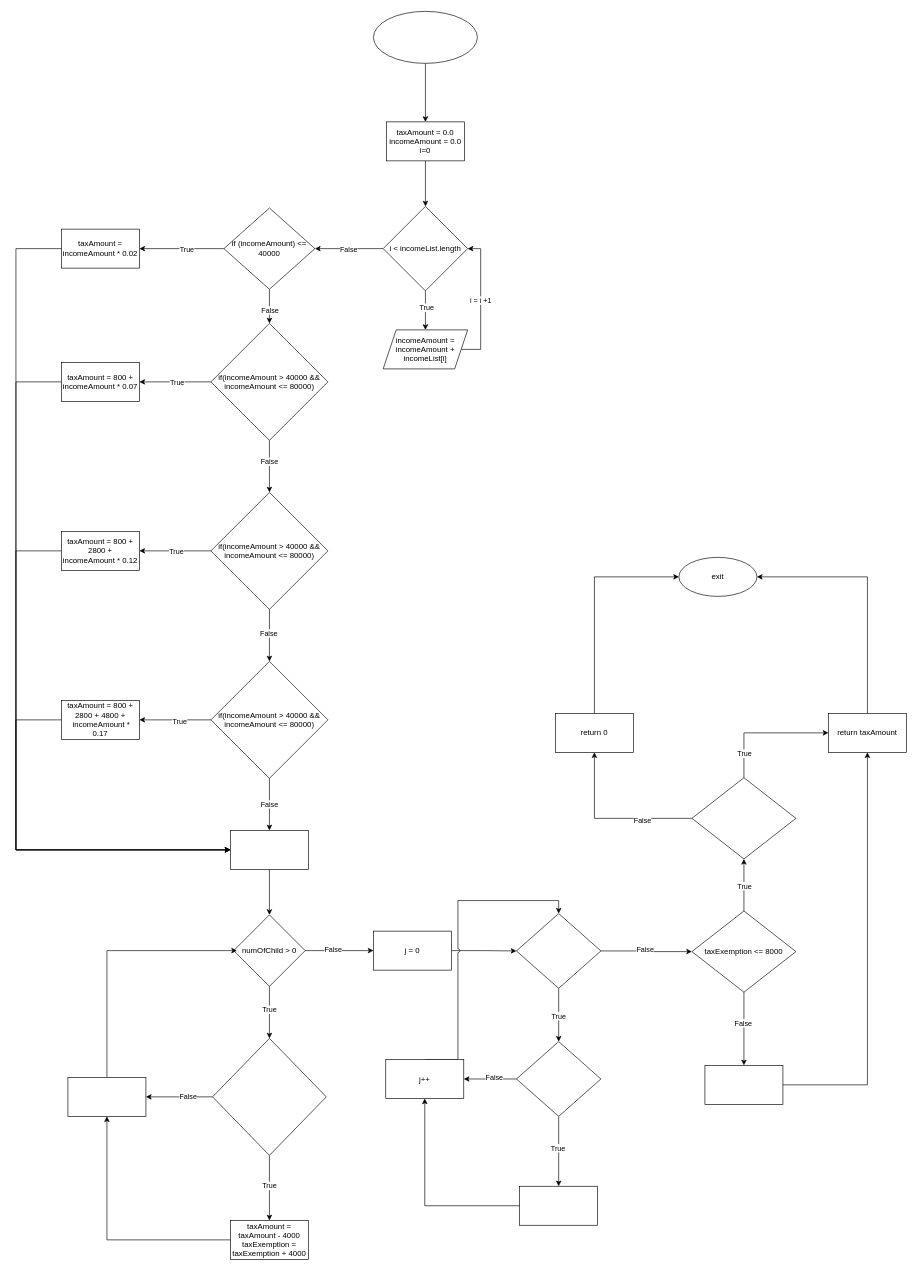
This 918x1271 diagram has some shape labels left out. Here are the shapes that lost their labels. From the top down, the box of each, then its label:
(373, 11, 477, 63): computeTax(incomeList, parentList, childList)
(691, 777, 796, 859): taxAmount >= 0
(230, 830, 308, 869): int taxExemption = 0 int numOfChild = childList.length
(516, 913, 601, 988): j < parentList.length
(67, 1077, 146, 1116): numOfChild--
(212, 1038, 326, 1155): childList [numOfChild -1] < 18
(516, 1041, 601, 1116): parentList [j] > 60
(704, 1065, 783, 1104): taxAmount = taxAmount + (taxExeption - 8000)
(519, 1186, 598, 1225): taxAmount = taxAmount - 2000 taxExemption = taxExemption + 2000
